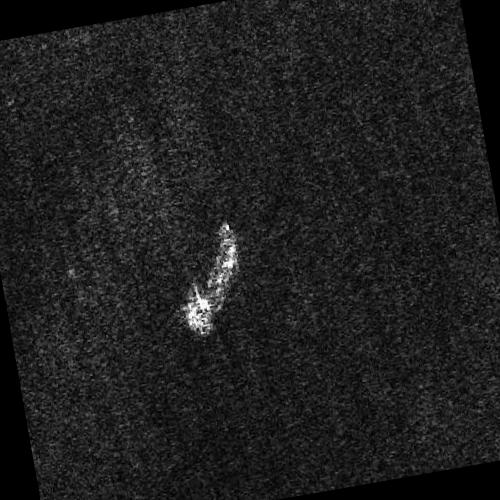ship: (186, 230, 238, 337)
